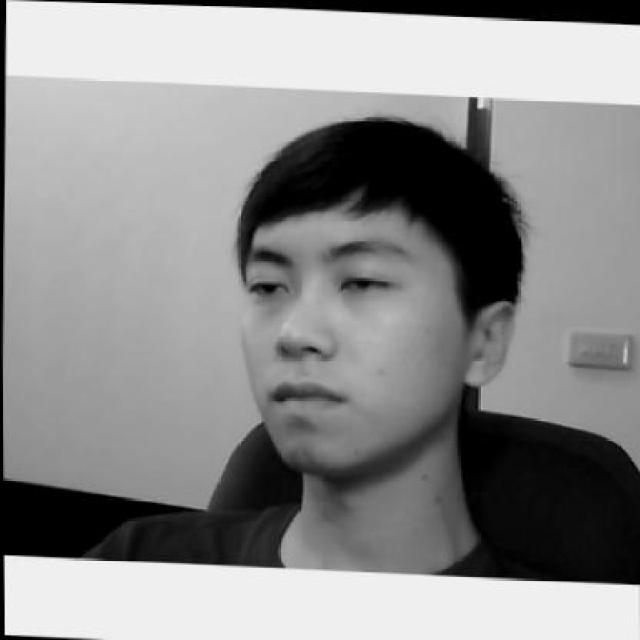inattentif: (231, 106, 518, 480)
